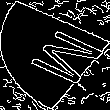M_SE: (9, 22, 101, 88)
